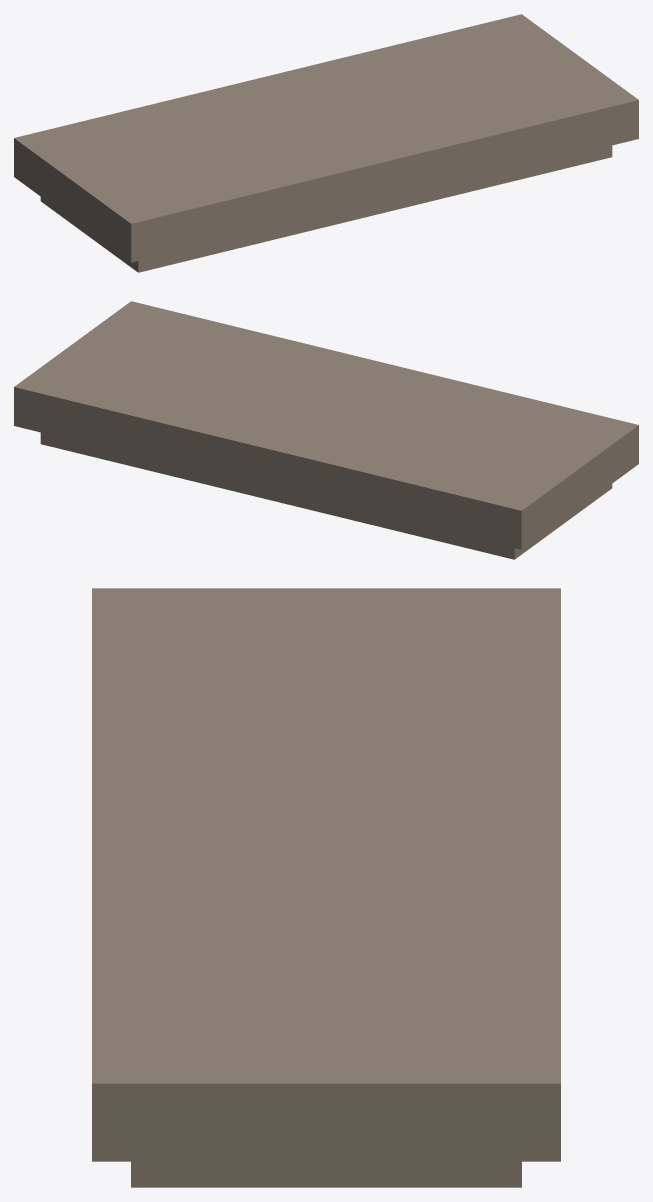
The model's file is platform.glb.
3 renders of one model, top to bottom at view 1: azimuth 30°, elevation 25°; view 2: azimuth 150°, elevation 25°; view 3: azimuth 270°, elevation 25°, orthographic. The views are drawn at different scales.
Parts seen in each view (by area): view 1: plat_0, plat_1; view 2: plat_0, plat_1; view 3: plat_0, plat_1.
Part boxes in pixels (box(x1,y1,x2,y2)): plat_0: box(14, 14, 638, 262); plat_1: box(40, 145, 612, 272); plat_0: box(14, 301, 638, 549); plat_1: box(40, 432, 612, 559); plat_0: box(92, 588, 560, 1161); plat_1: box(131, 1161, 521, 1187).
Size of the model in its own units: 3 by 0.34 by 1.2.
